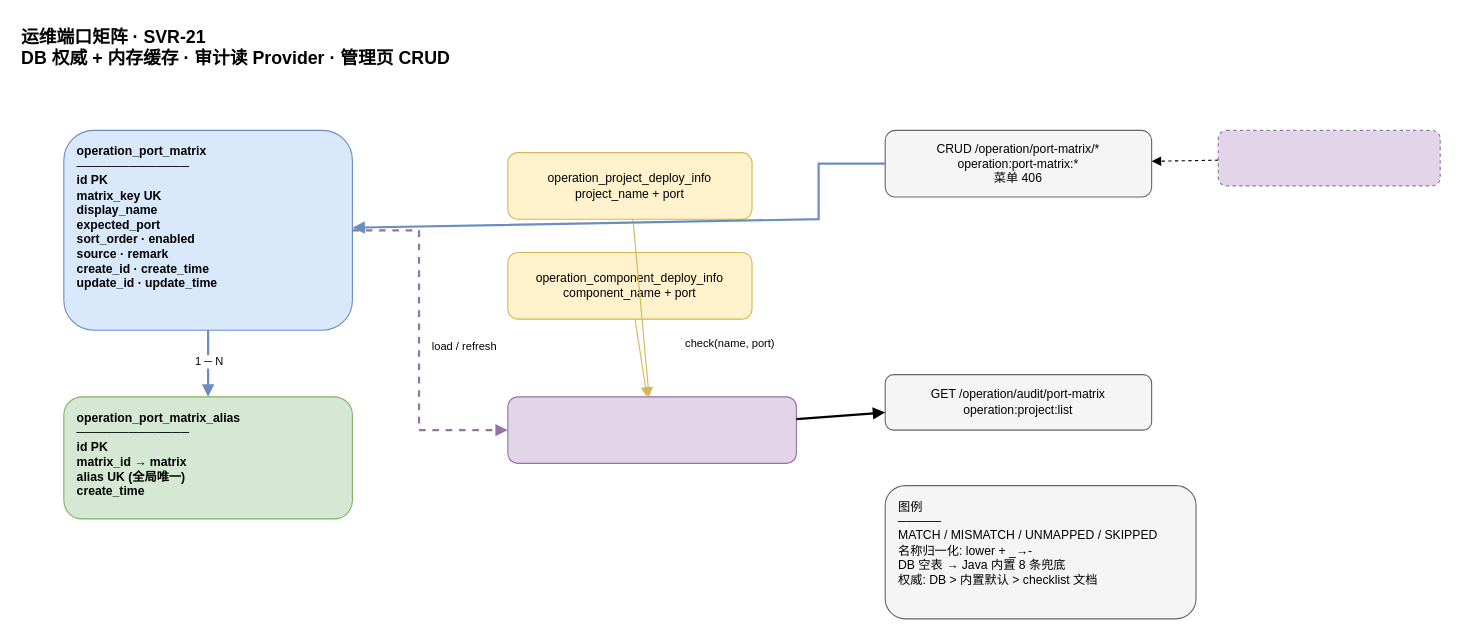
Some shapes in this 1460 by 638 pixel diagram are drawn without their labels. The centre of each missing label's shape, as x and y in pixels:
"meiling-ui operation/port-matrix/index" goes at point (1328, 157).
"OperationPortMatrixProvider (内存快照 · CRUD 后 refresh)" goes at point (651, 429).
